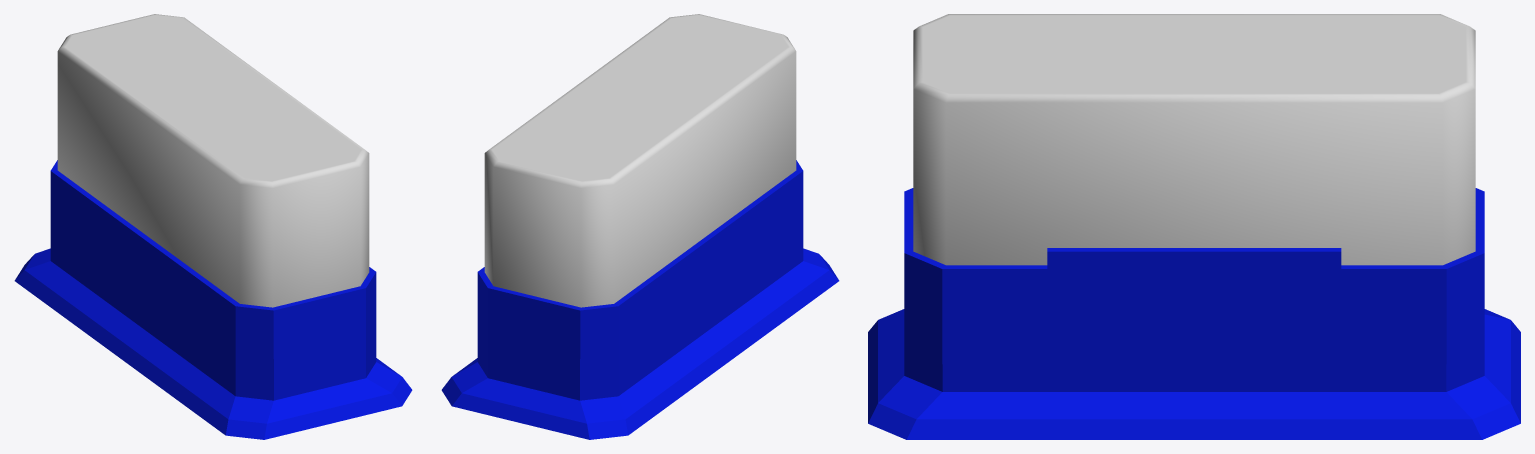
File: caseempty.fbx
3 views of the same model, side by side, from view 1: azimuth 30°, elevation 25°; view 2: azimuth 150°, elevation 25°; view 3: azimuth 270°, elevation 25° (orthographic). The views are drawn at different scales.
Parts seen in each view (by area): view 1: case_empty; view 2: case_empty; view 3: case_empty.
Boxes of the visible parts, x1,y1,x2,y2 form: case_empty: (14, 14, 412, 439); case_empty: (441, 14, 839, 439); case_empty: (868, 14, 1520, 439).
Bounding box in the file's own units: 200 × 444 × 243.
